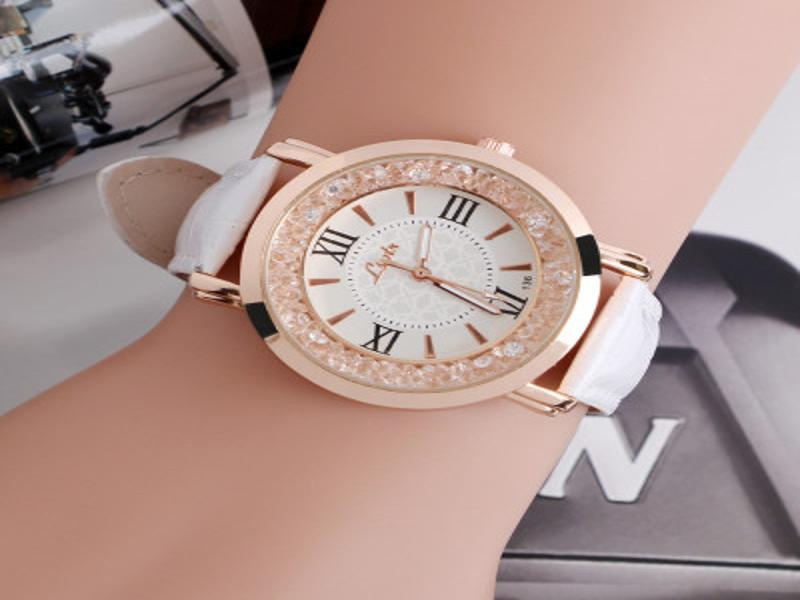watch: (100, 132, 665, 457)
